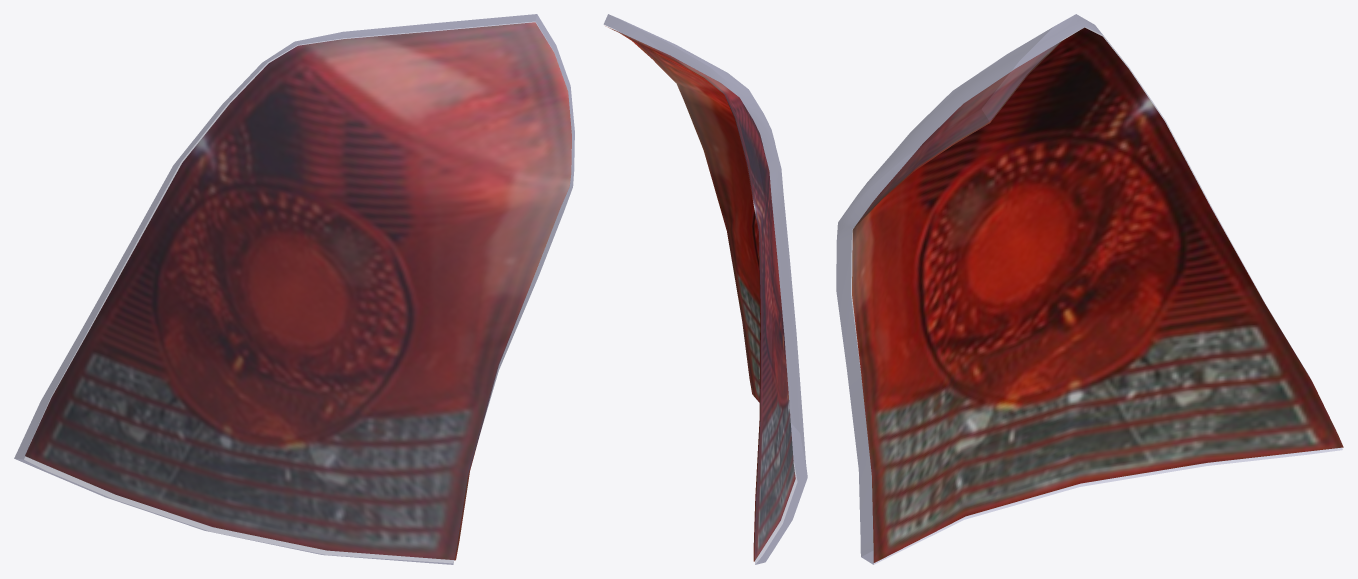
The picture shows the model from 3 angles, left to right: view 1: azimuth 30°, elevation 25°; view 2: azimuth 150°, elevation 25°; view 3: azimuth 270°, elevation 25°; orthographic projection. The views are drawn at different scales.
Visible parts, largest first — view 1: E232_541C_R_1_DTaSI_E232_541C_R, E232_541C_R_E232_541C_R_2_N; view 2: E232_541C_R_E232_541C_R_2_N, E232_541C_R_1_DTaSI_E232_541C_R; view 3: E232_541C_R_E232_541C_R_2_N, E232_541C_R_1_DTaSI_E232_541C_R.
Part boxes in pixels (x1=…): E232_541C_R_1_DTaSI_E232_541C_R: x1=14, y1=14, x2=574, y2=564; E232_541C_R_E232_541C_R_2_N: x1=25, y1=22, x2=571, y2=560; E232_541C_R_E232_541C_R_2_N: x1=605, y1=26, x2=795, y2=561; E232_541C_R_1_DTaSI_E232_541C_R: x1=604, y1=14, x2=807, y2=564; E232_541C_R_E232_541C_R_2_N: x1=852, y1=27, x2=1343, y2=562; E232_541C_R_1_DTaSI_E232_541C_R: x1=836, y1=14, x2=1342, y2=564.
Size of the model in its own units: 29.09 by 36.83 by 32.05.
